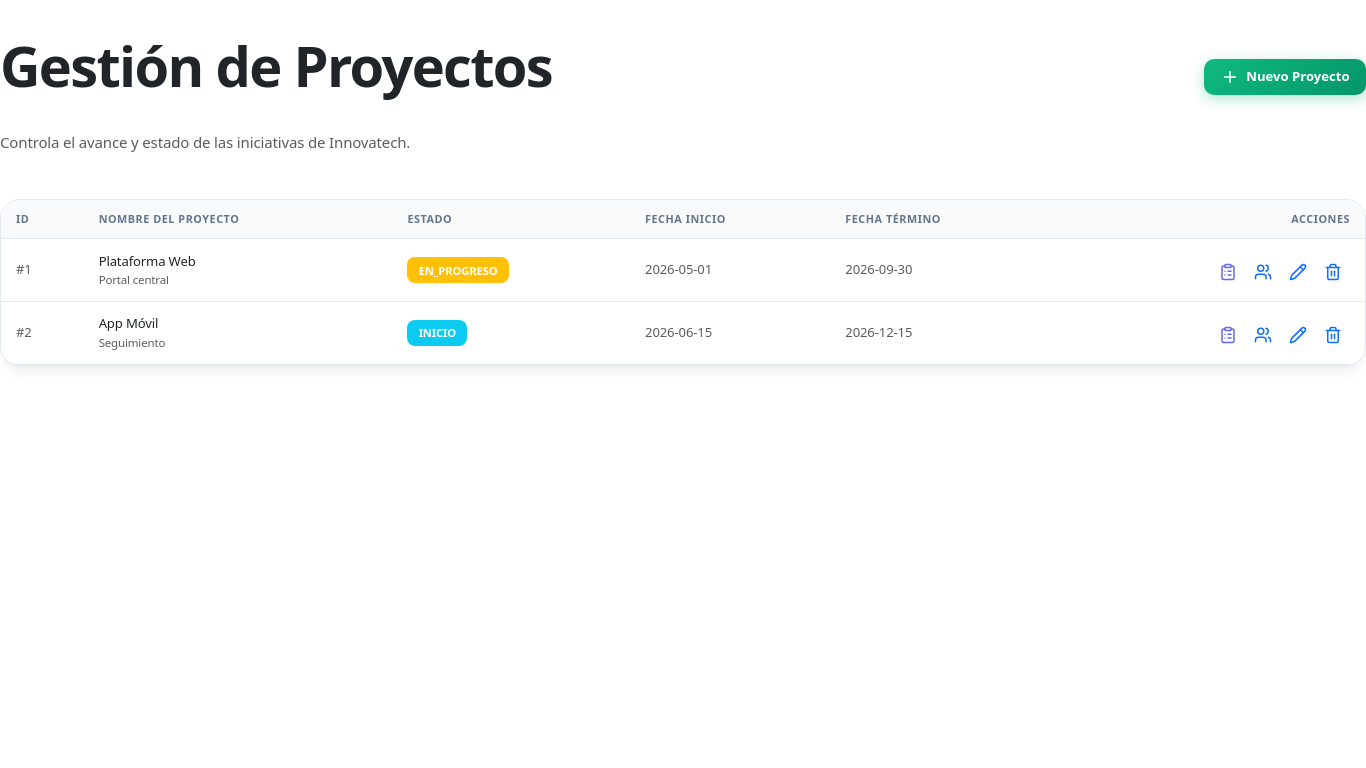
Test case: ProjectsManagement › abre el modal de nuevo proyecto
The image size is (1366, 768).
Expected: the text "Plataforma Web" is shown, top-left (99, 252), bottom-right (196, 270)
Click the button "Nuevo Proyecto" at (1285, 77), box top-left (1204, 59), bottom-right (1365, 95)
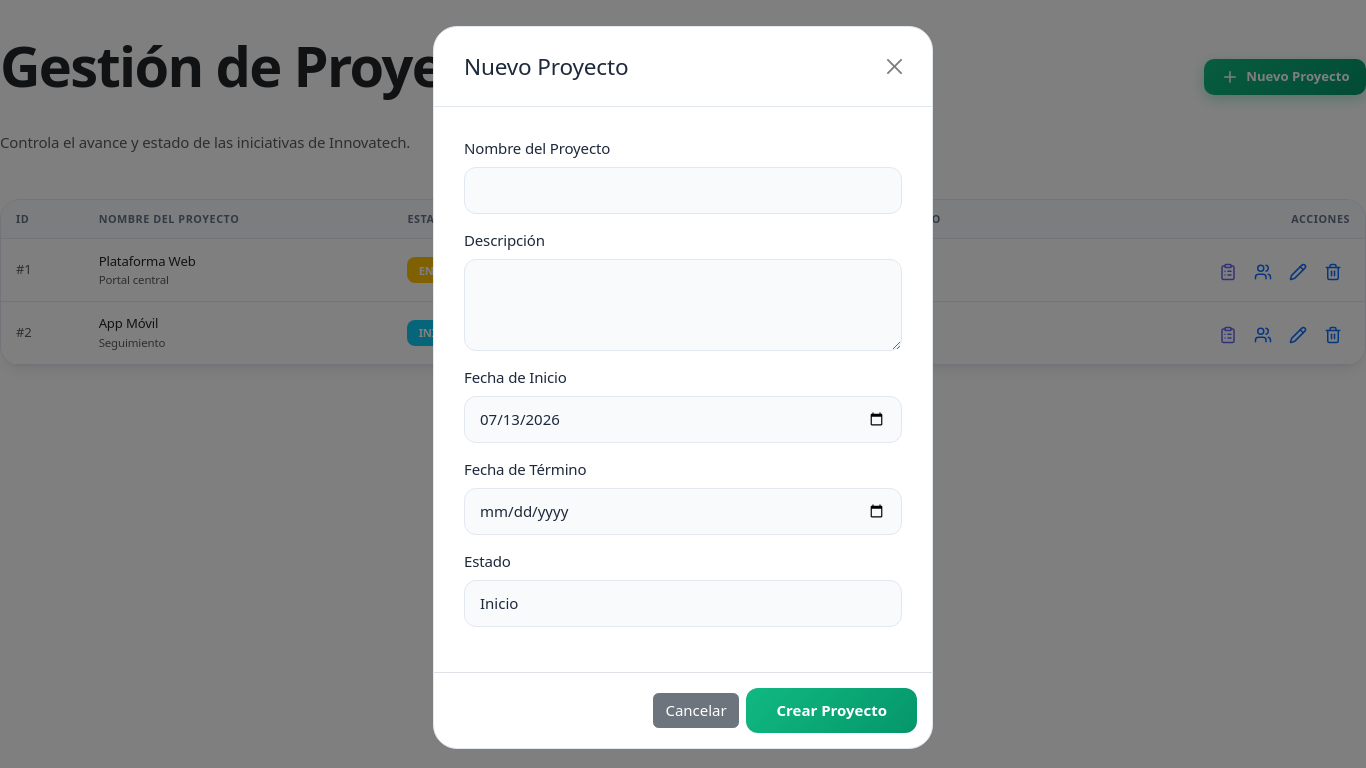
Result: the text "Nuevo Proyecto" is shown at top-left (464, 50), bottom-right (628, 84)
Result: the text "Nombre del Proyecto" is shown at top-left (464, 137), bottom-right (610, 160)
